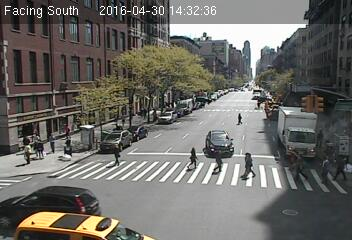neg: (94, 70, 117, 101), (282, 101, 302, 128), (214, 66, 230, 88), (60, 78, 74, 97), (307, 99, 321, 117), (145, 116, 158, 133), (12, 161, 24, 176), (73, 158, 83, 171), (189, 89, 197, 100)
pos: (236, 150, 260, 181), (207, 146, 230, 176), (186, 146, 203, 169), (110, 145, 126, 167), (43, 132, 59, 154), (236, 110, 245, 122)
